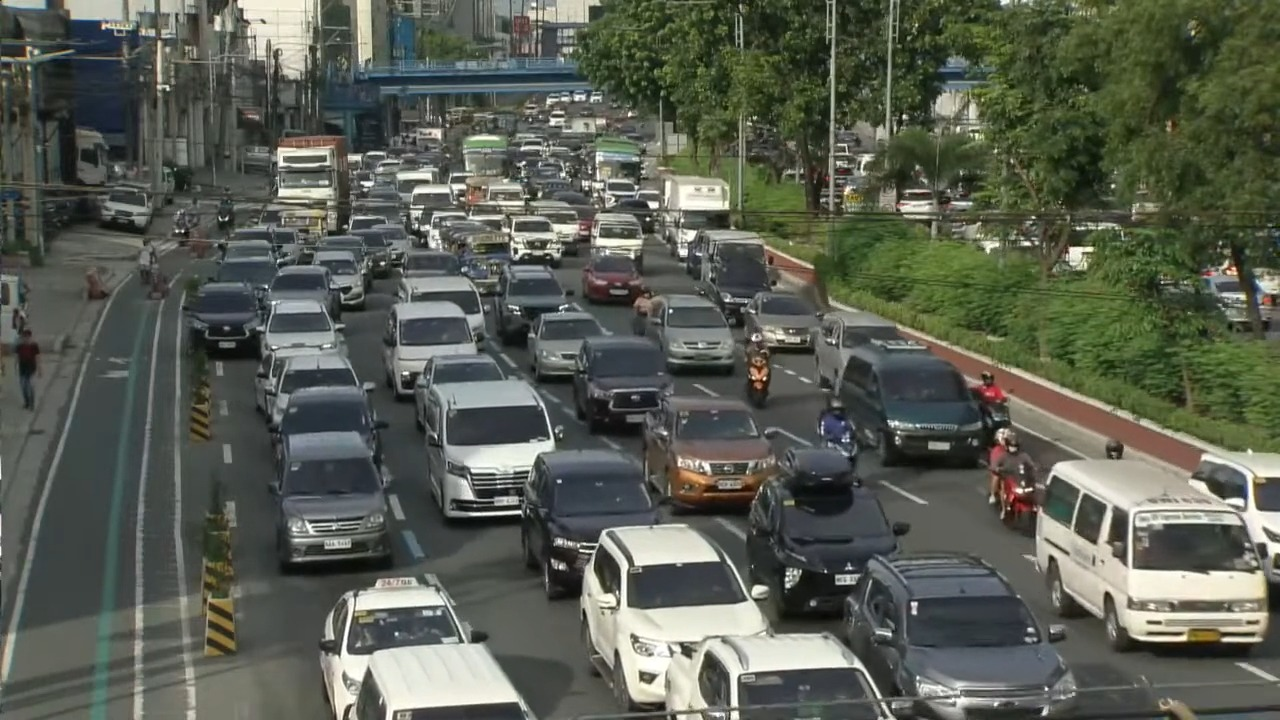car: (842, 553, 1076, 717), (579, 524, 769, 710), (745, 448, 909, 617), (319, 574, 487, 719), (663, 633, 908, 719), (521, 449, 660, 598), (424, 379, 563, 519), (834, 341, 986, 466), (269, 432, 392, 570), (642, 395, 776, 510), (1189, 452, 1279, 591), (572, 335, 673, 433), (382, 301, 482, 398), (268, 385, 387, 466), (264, 350, 373, 426), (645, 294, 736, 374), (414, 354, 507, 430), (815, 310, 904, 388), (495, 265, 573, 344), (396, 276, 485, 341), (182, 282, 261, 352), (527, 311, 606, 380), (697, 258, 775, 325), (742, 291, 817, 351), (254, 348, 315, 421), (260, 300, 344, 351), (315, 229, 383, 291), (267, 265, 340, 319), (210, 258, 278, 304), (313, 250, 366, 309), (582, 253, 642, 303), (508, 215, 562, 267), (360, 223, 411, 277), (1201, 274, 1251, 329), (229, 225, 300, 263), (531, 201, 578, 254), (99, 186, 153, 232), (348, 189, 399, 230), (610, 191, 655, 232), (419, 210, 466, 249), (401, 250, 461, 277), (895, 189, 938, 219), (221, 239, 274, 261), (603, 179, 638, 207), (346, 215, 386, 231), (447, 172, 469, 199), (636, 188, 661, 211), (571, 91, 588, 102), (588, 91, 603, 103)
motorcycle: (998, 463, 1039, 532), (816, 418, 859, 470), (978, 398, 1012, 447), (824, 432, 858, 470), (746, 358, 770, 408), (172, 209, 198, 245), (631, 307, 648, 335), (217, 207, 233, 236)
truck: (275, 135, 349, 232), (662, 175, 730, 259), (591, 136, 642, 195), (75, 127, 110, 186), (463, 134, 507, 176), (563, 117, 606, 134)
